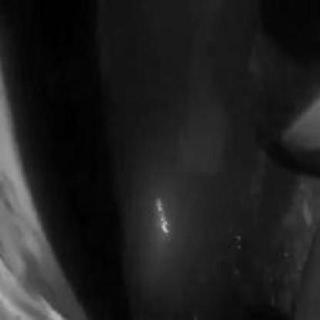Fire: (152, 196, 172, 236)
